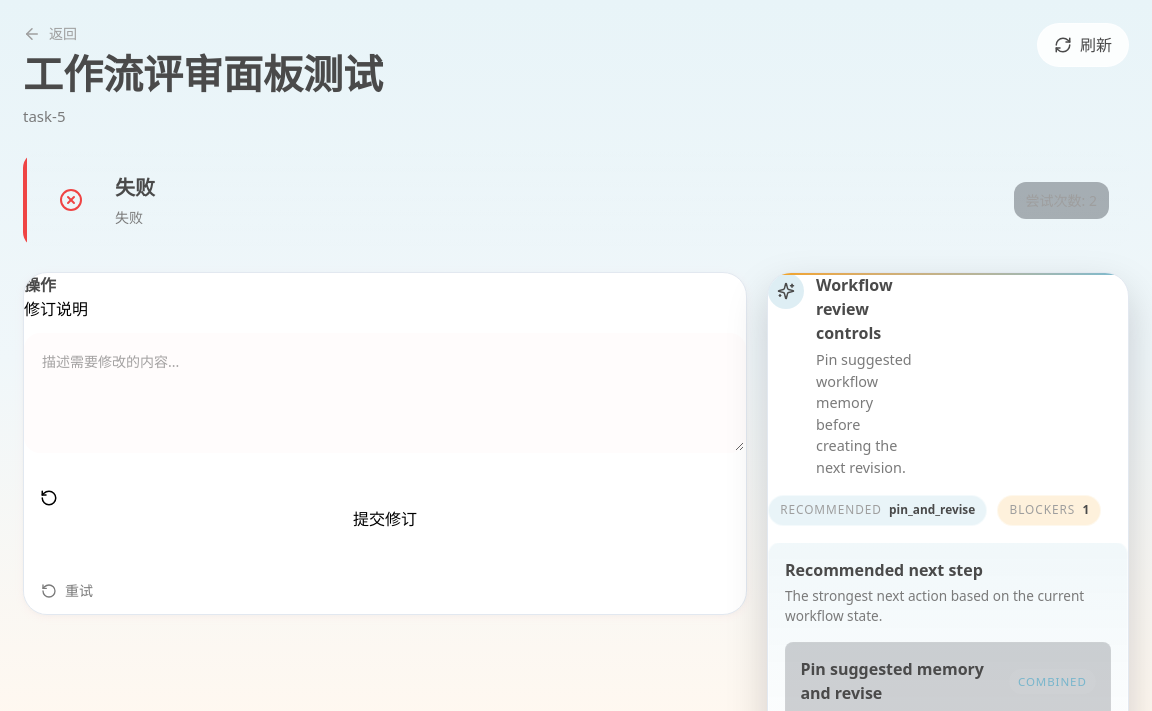
Test case: task detail renders owner review panel and submits the recommended workflow action
Expected: the heading "工作流评审面板测试" is shown, [23,46,383,101]
Expected: the heading "Workflow review controls" is shown, [816,274,893,344]
Click the button "Pin memory and revise". click: (1029, 296)
box: [931,273,1128,319]
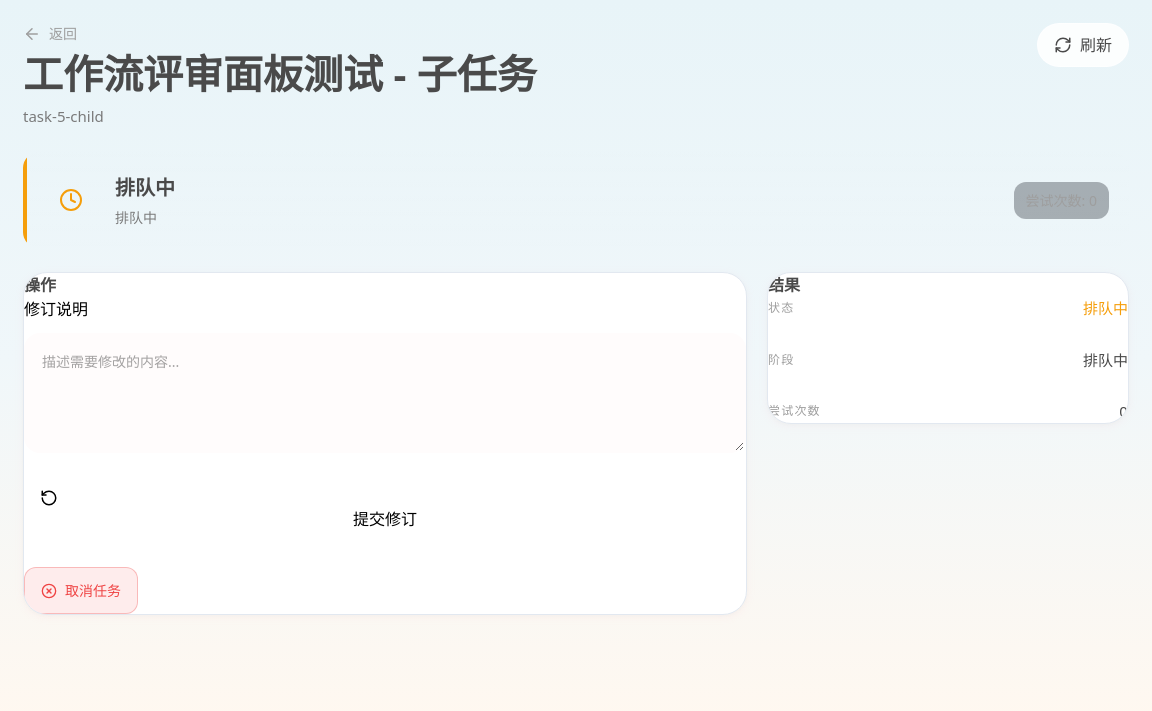
Now the heading "工作流评审面板测试 - 子任务" is shown, box [23,46,537,101]
